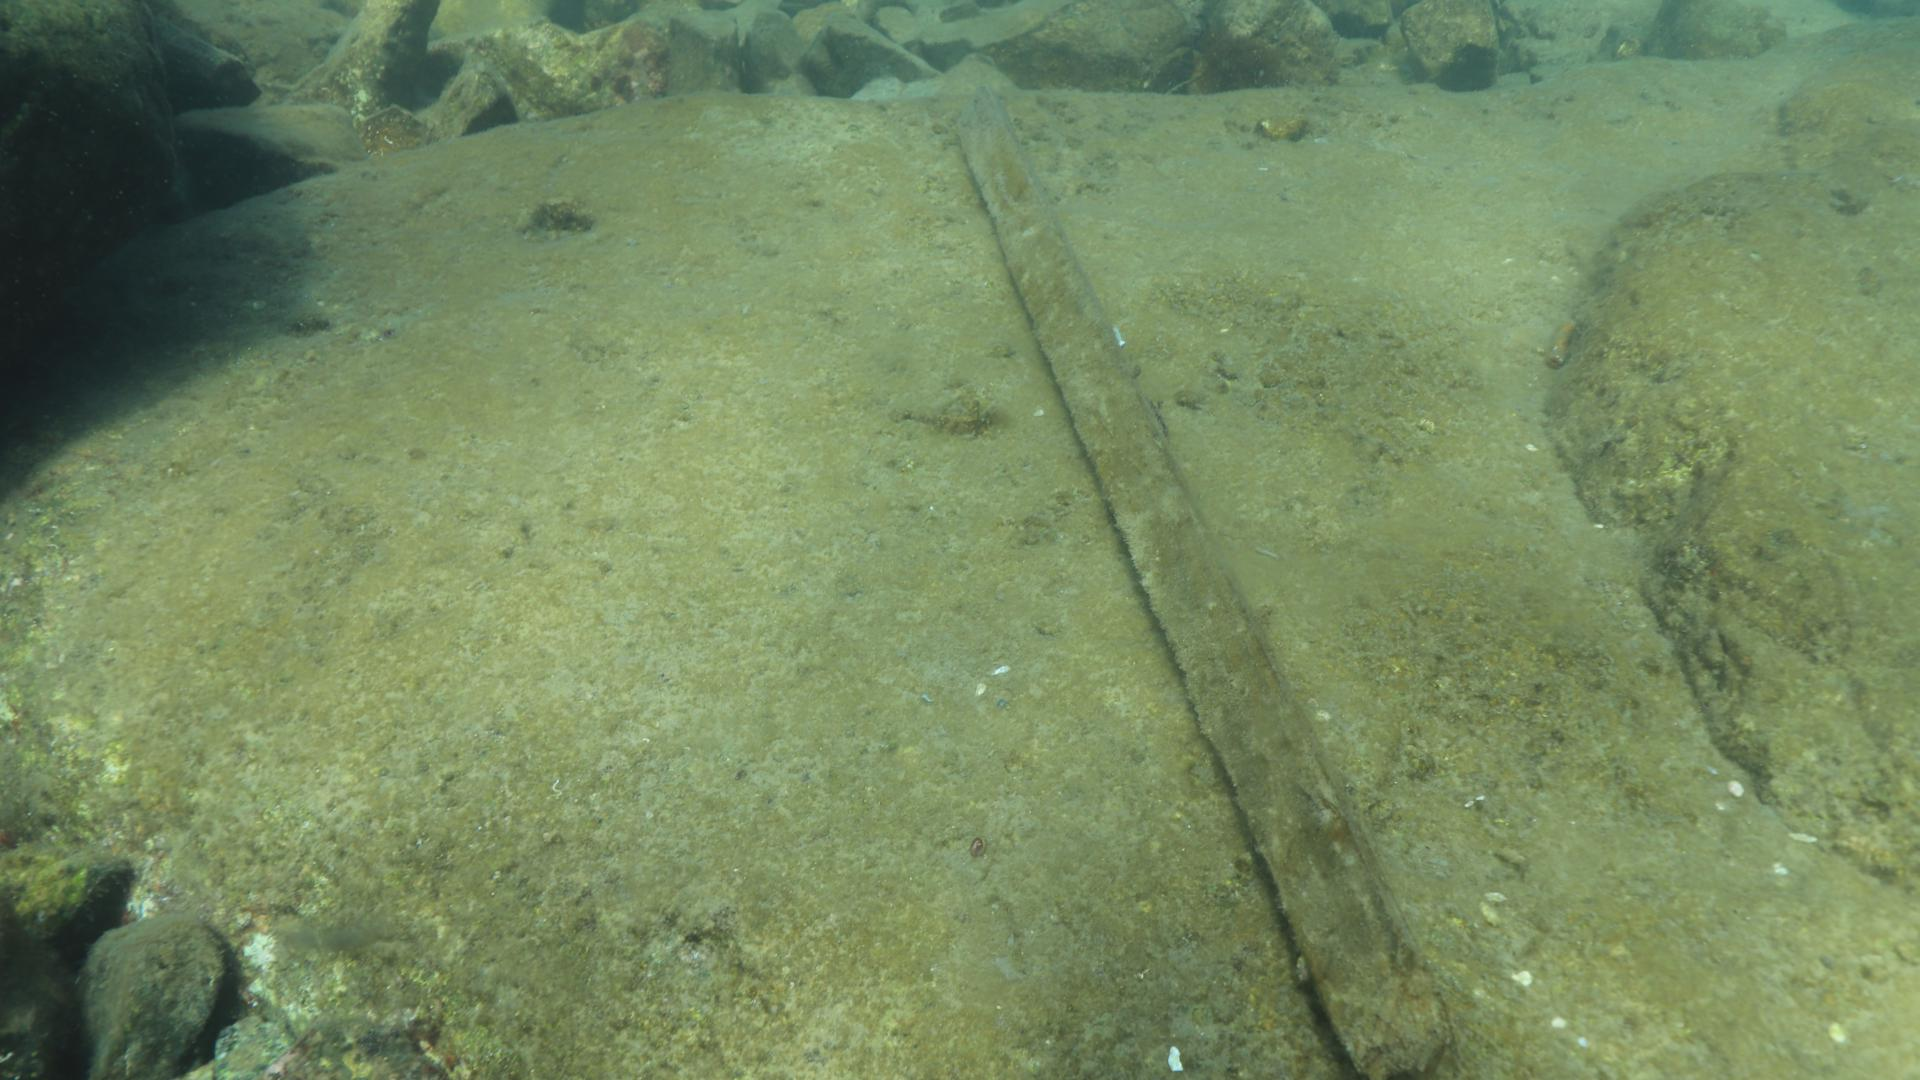wood: (953, 79, 1458, 1080)
